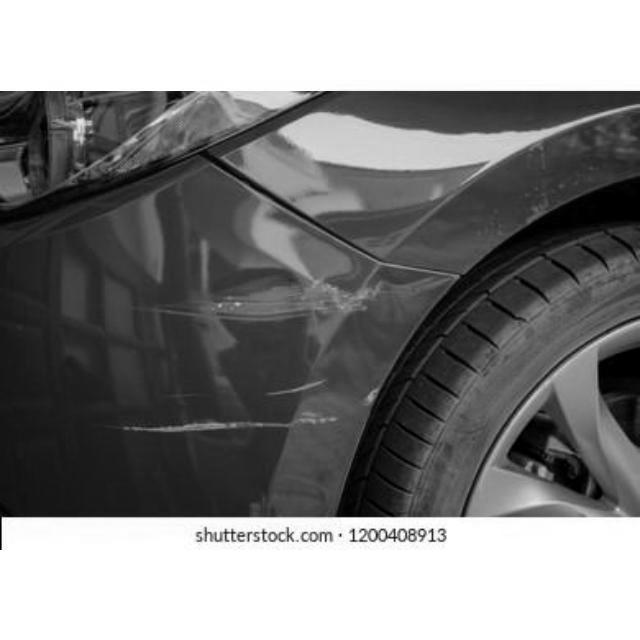front-bumper-dent: (1, 256, 462, 516)
